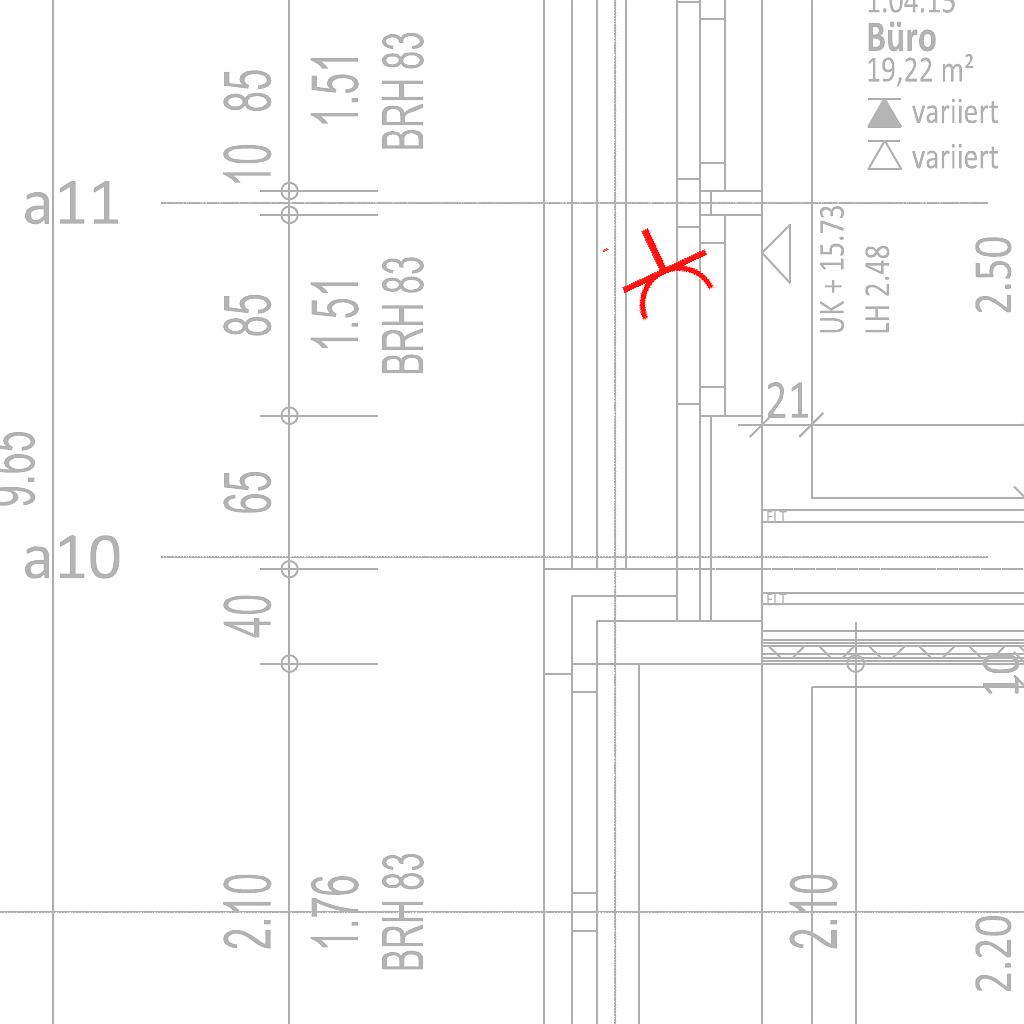Schukosteckdose_einfach: (596, 207, 725, 329)
